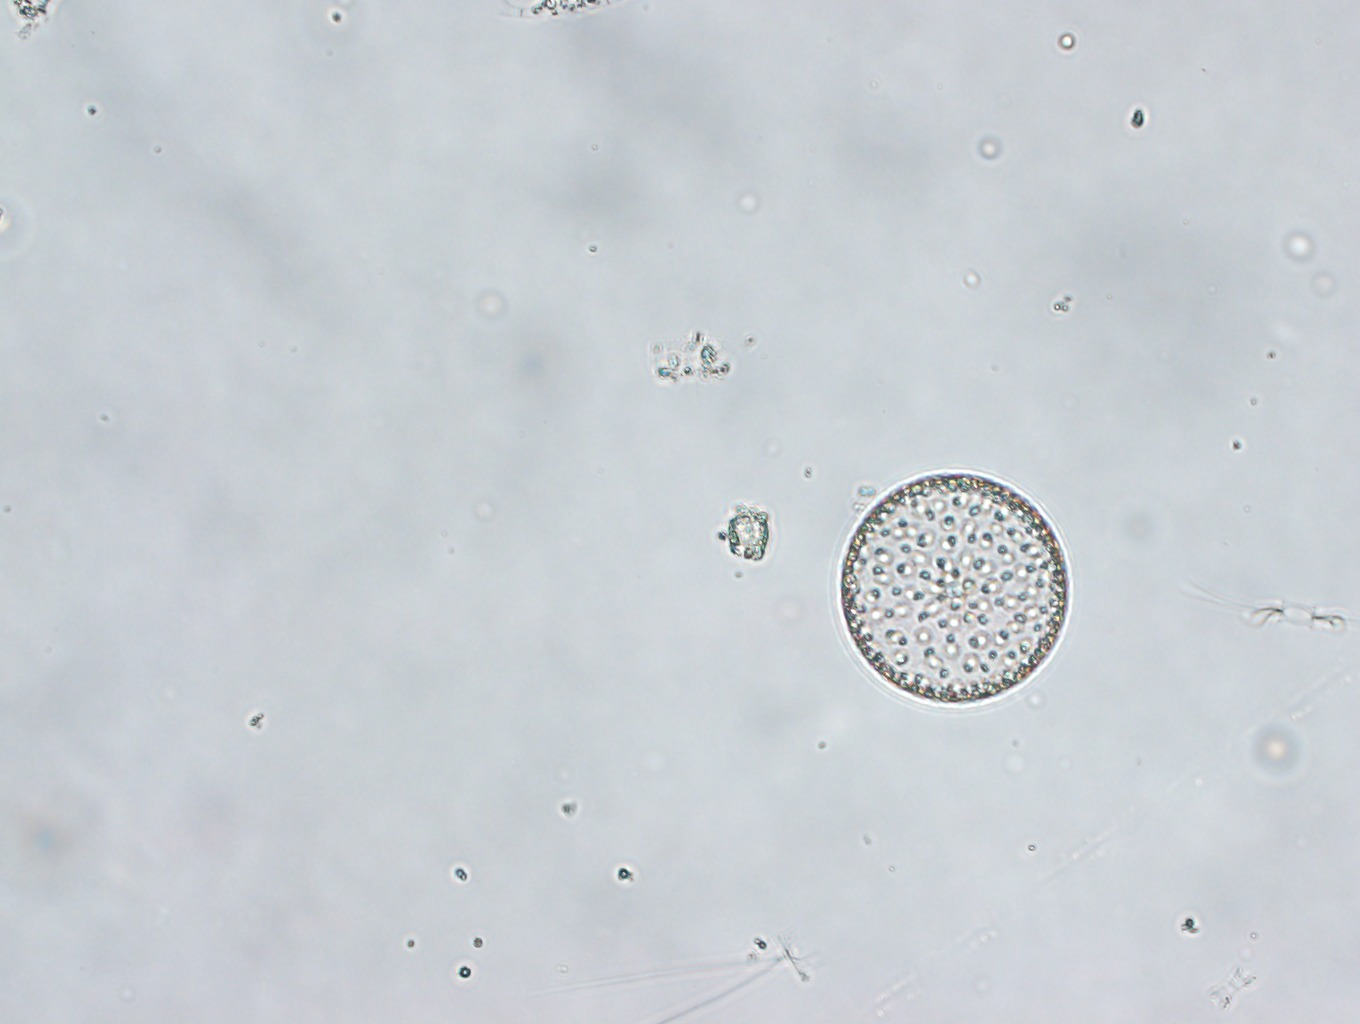coscinodiscus: (838, 469, 1072, 706)
